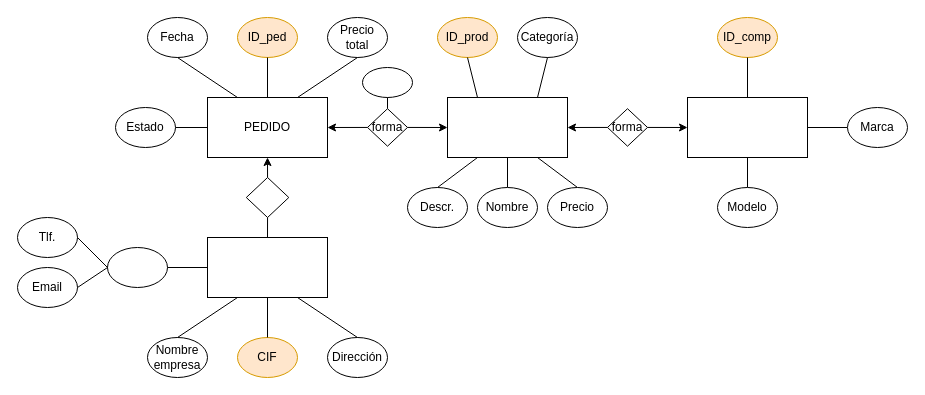
Some shapes in this 925 by 395 pixel diagram are drawn without their labels. Here are the shapes that lost their labels. From the top down, the centre of each, then its label:
At point 387,82: "Cantidad".
At point 507,127: "PRODUCTO".
At point 747,127: "COMPONENTE".
At point 267,197: "solicita".
At point 137,267: "Datos de contacto".
At point 267,267: "CLIENTE".
